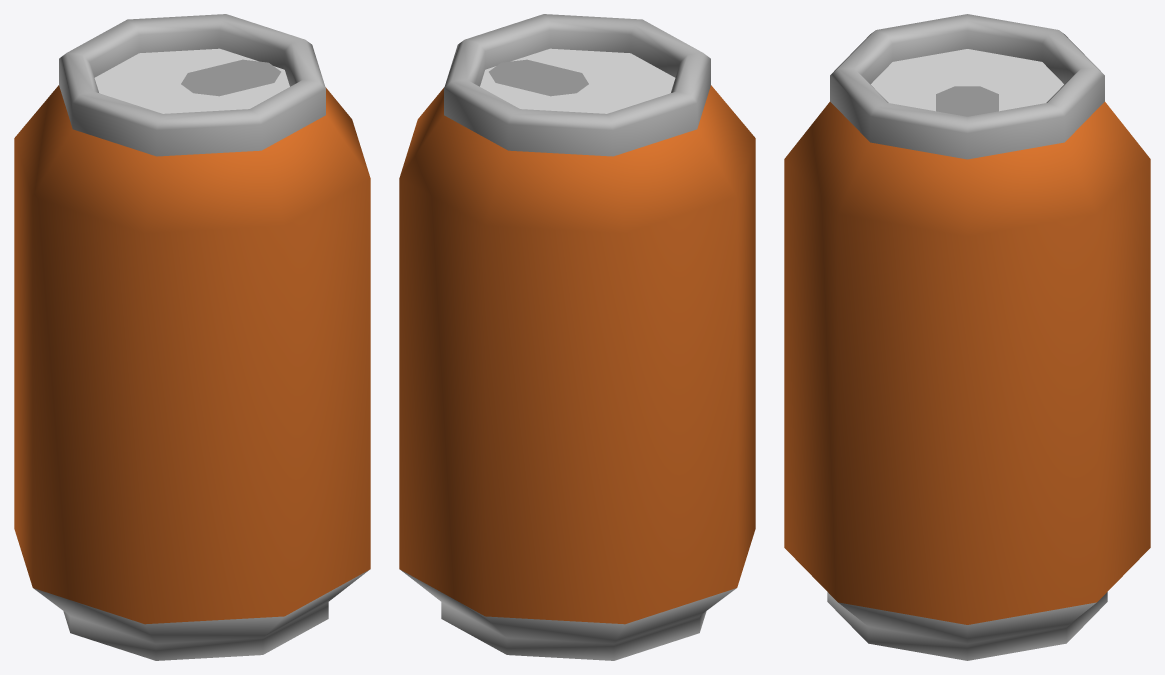
File: prop_067.fbx
3 views of the same model, side by side, from view 1: azimuth 30°, elevation 25°; view 2: azimuth 150°, elevation 25°; view 3: azimuth 270°, elevation 25° (orthographic).
Parts seen in each view (by area): view 1: prop_067; view 2: prop_067; view 3: prop_067.
Part boxes in pixels (x1,y1,x2,y2): prop_067: (14,14,370,660); prop_067: (399,14,755,660); prop_067: (784,14,1150,660).
Size of the model in its own units: 11.49 by 11.49 by 18.43.
